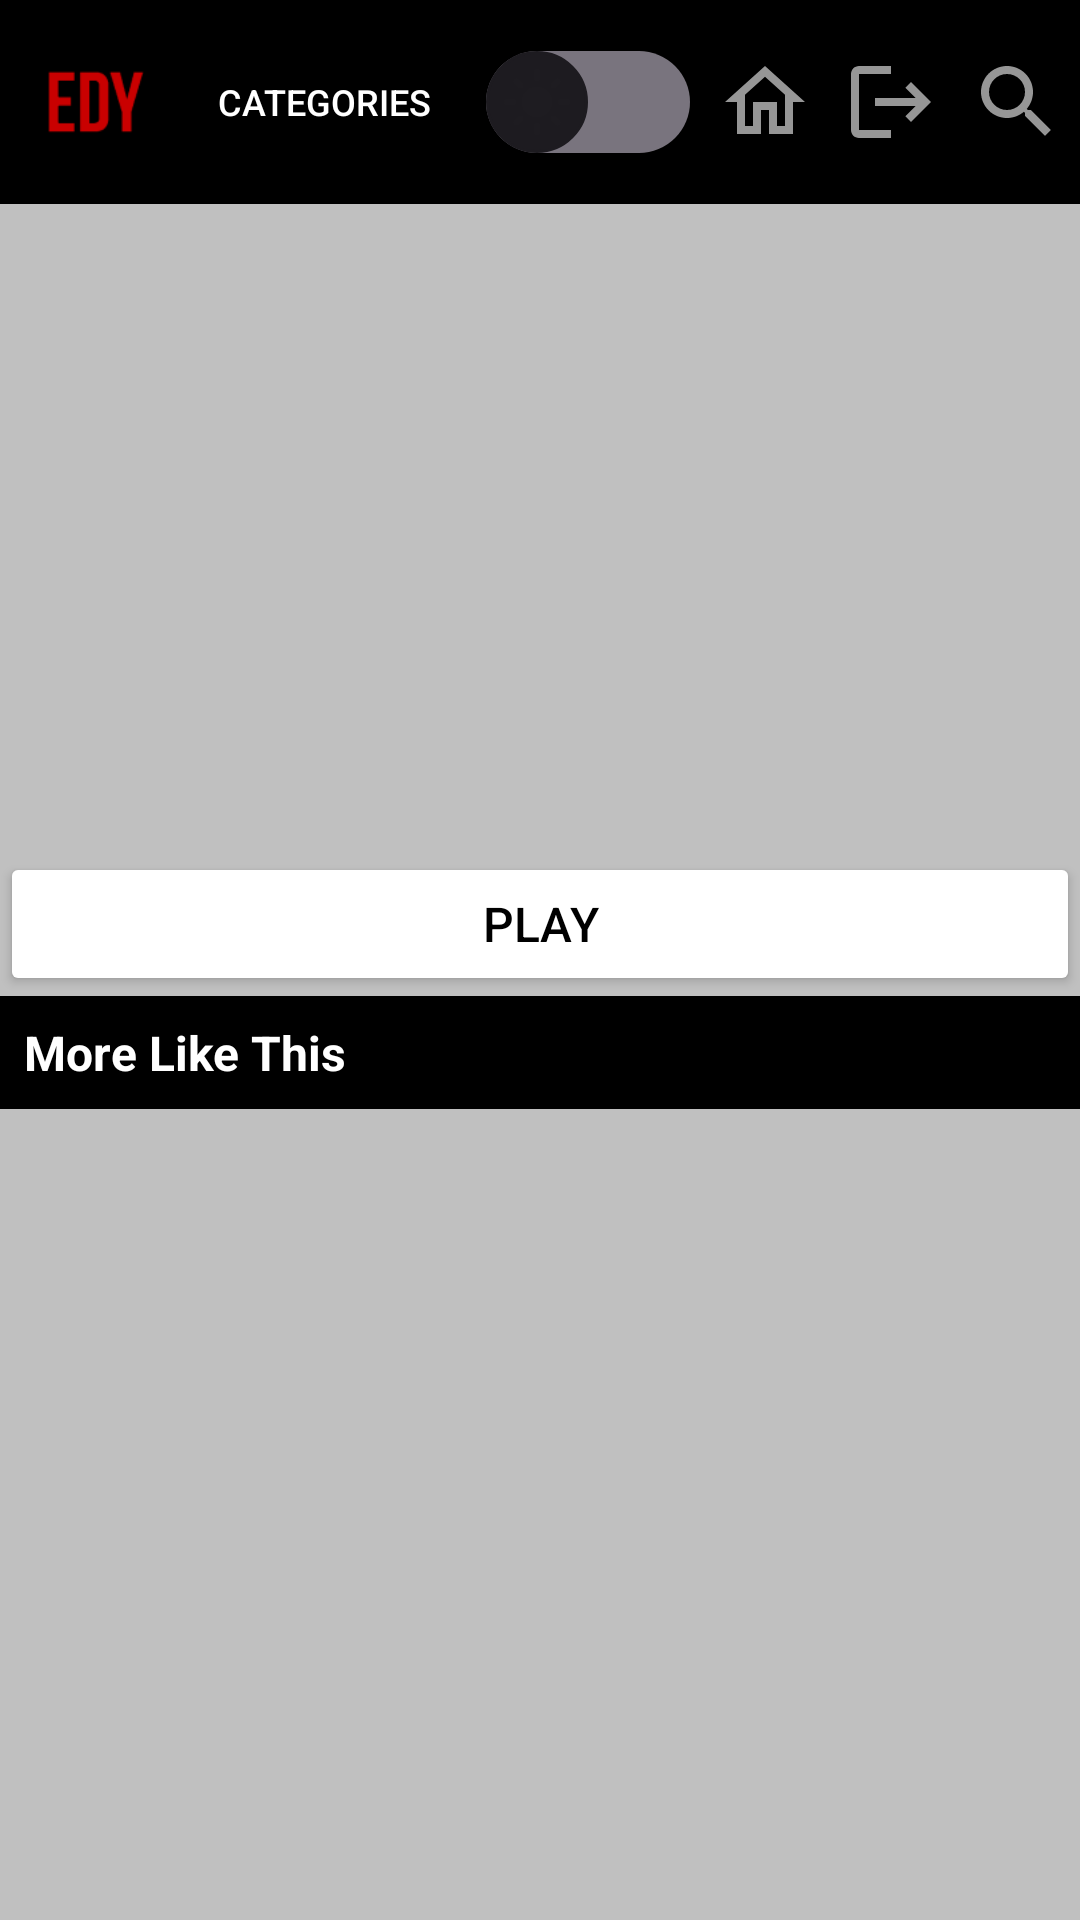

Icons on this 1080px×1920px Android screen, each with its box as rect(x1, y1, x2, y2):
Home Button: rect(725, 66, 805, 134)
Search button: rect(981, 66, 1051, 136)
